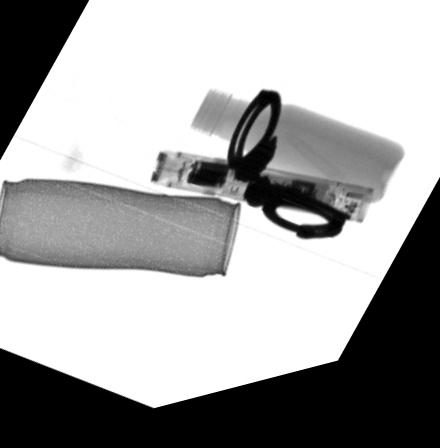Baton: (146, 157, 374, 243)
HandCuffs: (223, 101, 350, 258)
